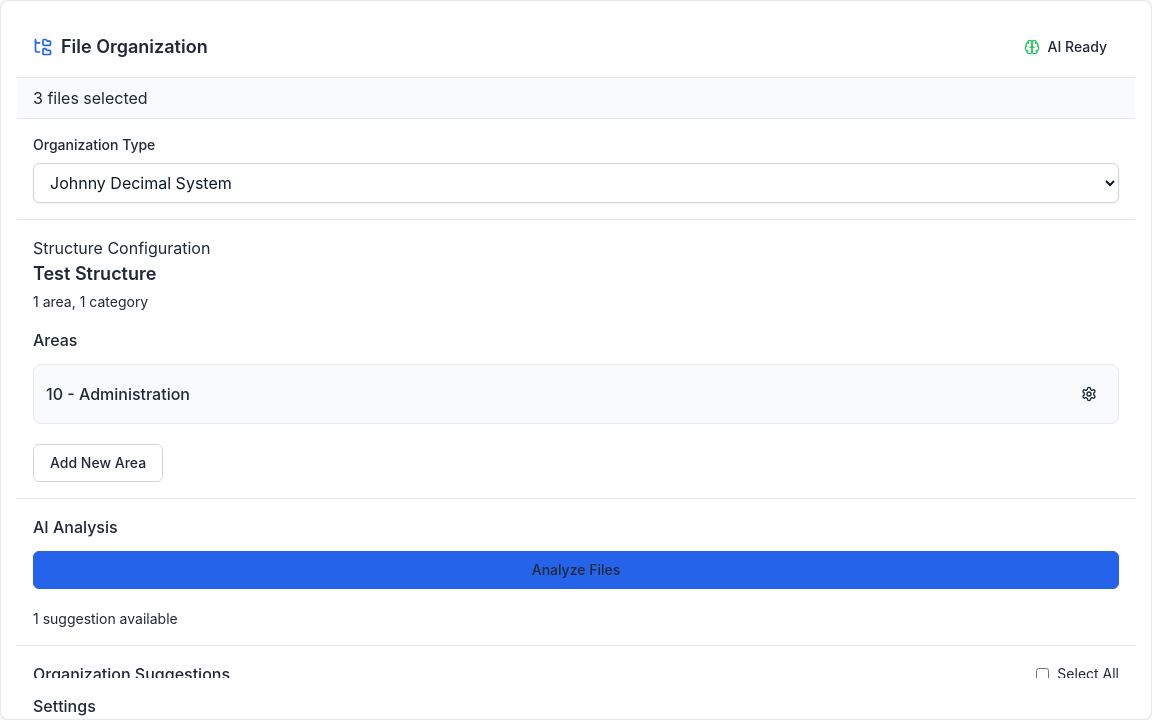
OrganizationPanel Component › Structure Configuration › allows adding new areas
The image size is (1152, 720).
Click the button with aria-label "add area". click: (98, 463)
box: [33,444,163,482]
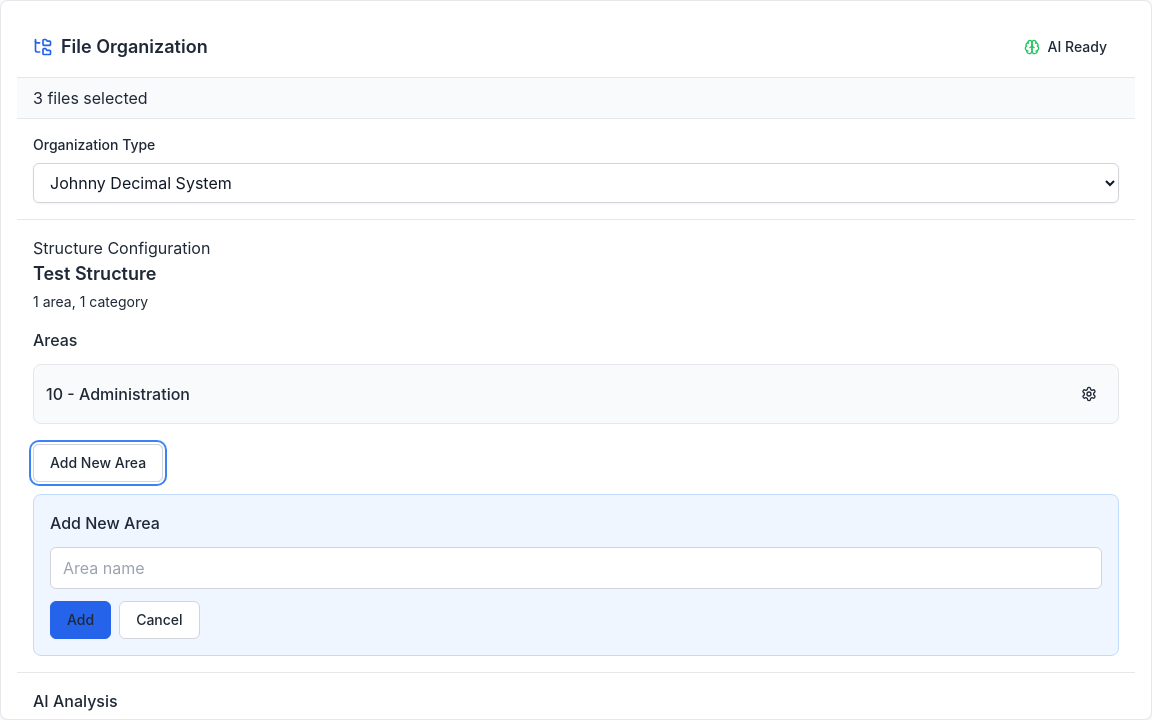
Now the heading "Add New Area" is shown, box [50,513,160,533]
